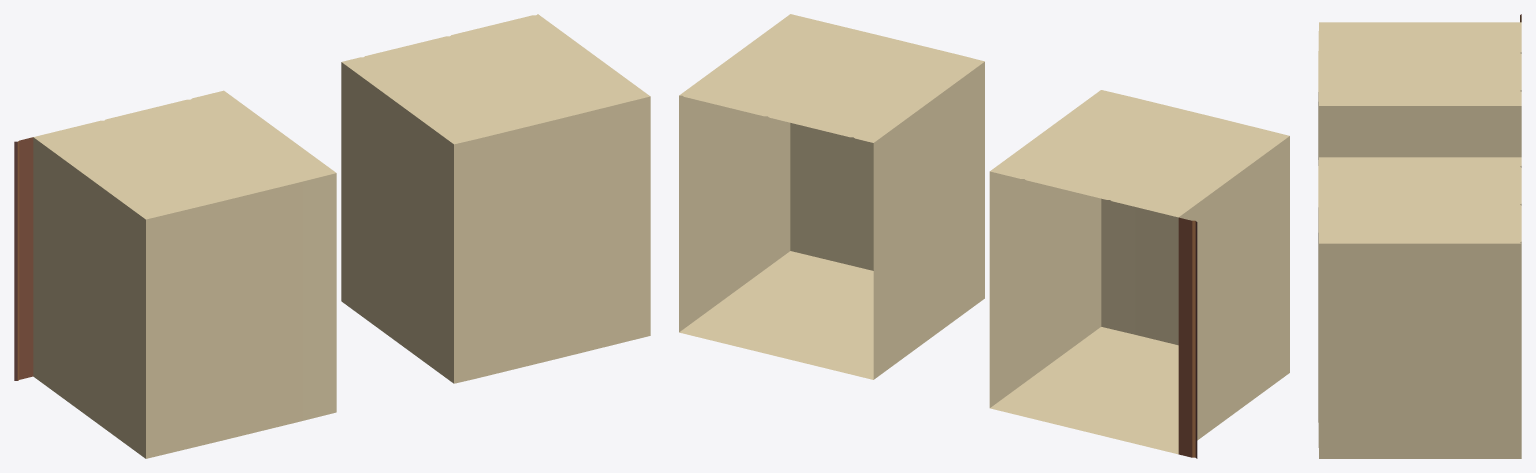
File: OutsideArea.FBX
The picture shows the model from 3 angles, left to right: view 1: azimuth 30°, elevation 25°; view 2: azimuth 150°, elevation 25°; view 3: azimuth 270°, elevation 25°; orthographic projection. The views are drawn at different scales.
Parts seen in each view (by area): view 1: OutsideAreas; view 2: OutsideAreas; view 3: OutsideAreas.
Boxes of the visible parts, x1,y1,x2,y2 form: OutsideAreas: (14,14,650,458); OutsideAreas: (679,14,1289,458); OutsideAreas: (1318,14,1521,458).
Size of the model in its own units: 417 by 182 by 156.
